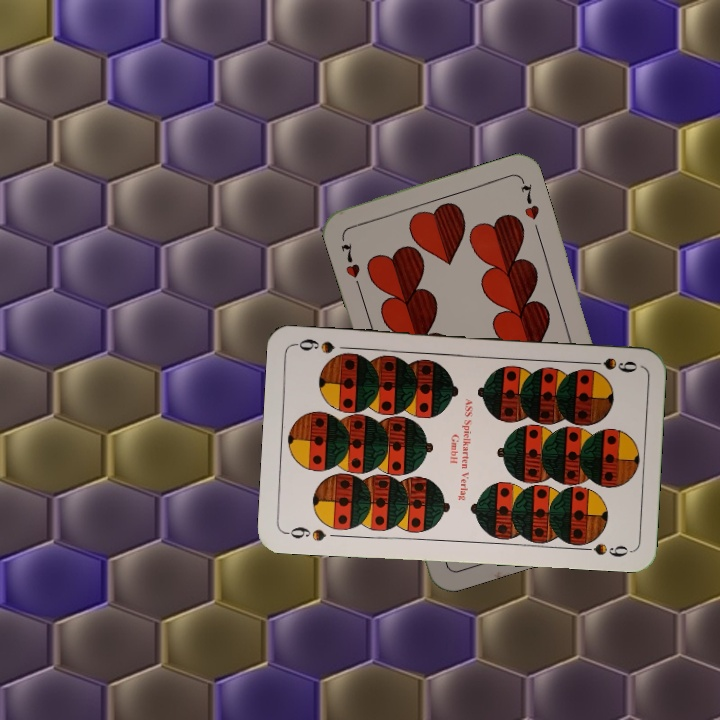H7: (337, 238, 363, 280)
S9: (581, 353, 640, 375), (282, 523, 329, 544)
